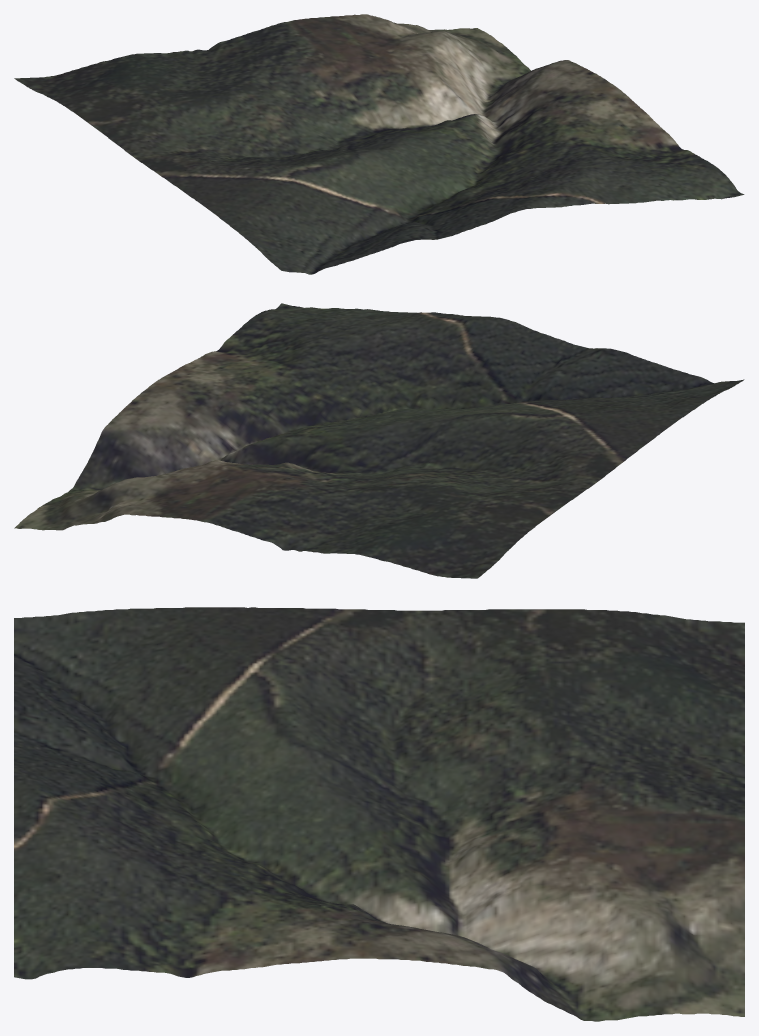
File: tile_1_0.glb
3 views of the same model, one above another, from view 1: azimuth 30°, elevation 25°; view 2: azimuth 150°, elevation 25°; view 3: azimuth 270°, elevation 25° (orthographic). The views are drawn at different scales.
Parts seen in each view (by area): view 1: tile_1_0; view 2: tile_1_0; view 3: tile_1_0.
Boxes of the visible parts, <box> form: tile_1_0: <box>14,14,744,274</box>; tile_1_0: <box>14,303,744,578</box>; tile_1_0: <box>14,607,744,1021</box>.
Size of the model in its own units: 1000 by 159 by 1000.
1 material, 1 textured.
